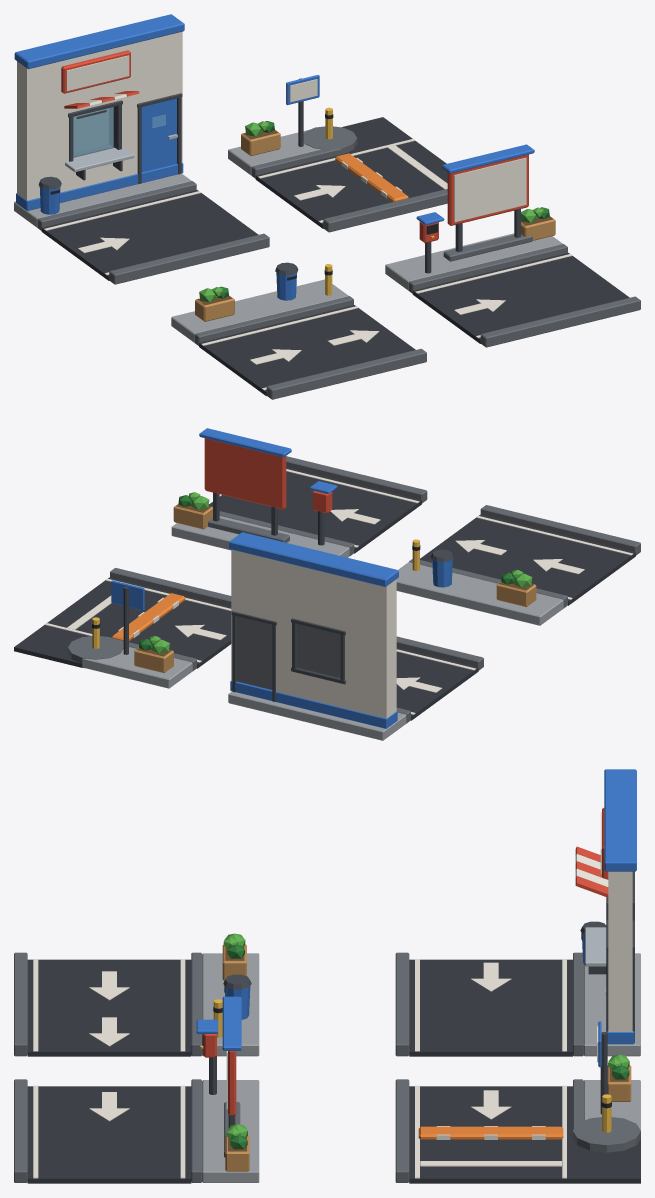
File: drive-thru-lane-kit.glb
The picture shows the model from 3 angles, top to bottom: view 1: azimuth 30°, elevation 25°; view 2: azimuth 150°, elevation 25°; view 3: azimuth 270°, elevation 25°; orthographic projection. The views are drawn at different scales.
Parts seen in each view (by area): view 1: Lane_PickupWindow, Lane_MenuBoard, Lane_Straight, Lane_Exit, StaffDoor, PickupWindow; view 2: Lane_PickupWindow, Lane_MenuBoard, Lane_Straight, Lane_Exit; view 3: Lane_PickupWindow, Lane_MenuBoard, Lane_Exit, Lane_Straight.
Boxes of the visible parts, x1,y1,x2,y2 form: Lane_PickupWindow: [14, 14, 269, 284]; Lane_MenuBoard: [385, 144, 640, 347]; Lane_Straight: [171, 262, 426, 399]; Lane_Exit: [228, 75, 447, 232]; StaffDoor: [141, 98, 176, 172]; PickupWindow: [73, 107, 113, 157]; Lane_PickupWindow: [228, 532, 483, 740]; Lane_MenuBoard: [171, 428, 427, 557]; Lane_Straight: [396, 505, 640, 625]; Lane_Exit: [14, 568, 231, 688]; Lane_PickupWindow: [395, 769, 640, 1056]; Lane_MenuBoard: [14, 996, 259, 1183]; Lane_Exit: [395, 1021, 640, 1183]; Lane_Straight: [14, 933, 259, 1056].
Bounding box in the file's own units: 38.3 × 15.8 × 46.
